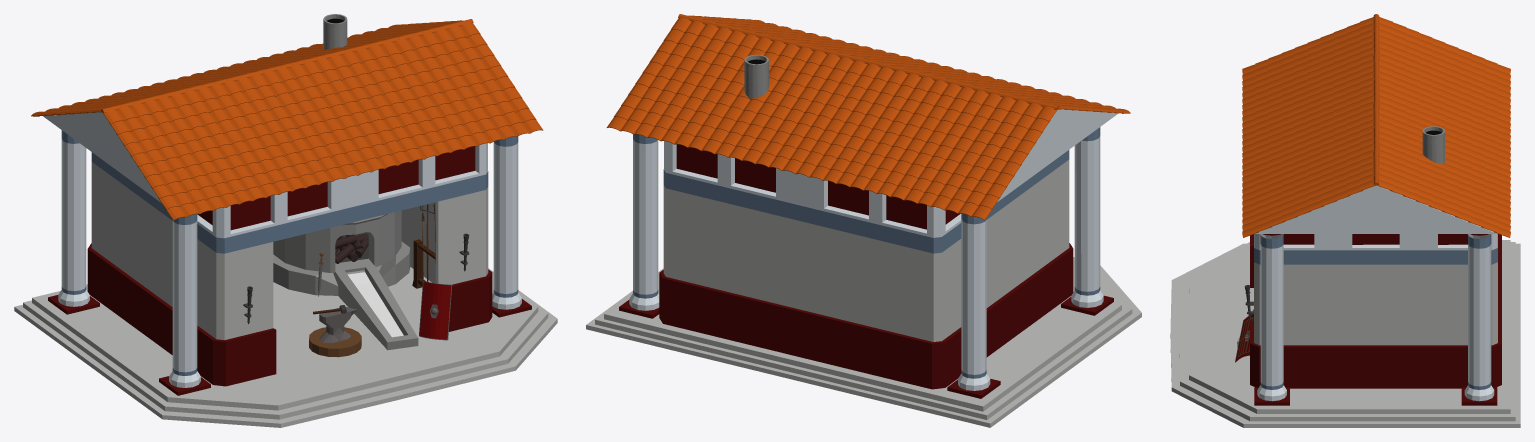
The model's file is Schmiede.fbx.
3 views of the same model, side by side, from view 1: azimuth 30°, elevation 25°; view 2: azimuth 150°, elevation 25°; view 3: azimuth 270°, elevation 25° (orthographic). The views are drawn at different scales.
Parts seen in each view (by area): view 1: Roof, Walls, Foundation, Pillars, Lower Roof, Oven, Amboss, Scutum, MakeThisOneLavaPls, Speer Ständer Ver 2.1; view 2: Walls, Roof, Foundation, Pillars, Lower Roof, Oven; view 3: Roof, Walls, Foundation, Lower Roof, Pillars, Oven, Scutum.
Boxes of the visible parts, box(x1,y1,x2,y2) form: Roof: box(31, 19, 543, 220); Walls: box(87, 152, 492, 386); Foundation: box(14, 267, 557, 427); Pillars: box(48, 130, 531, 395); Lower Roof: box(43, 112, 487, 238); Oven: box(273, 14, 418, 350); Amboss: box(309, 307, 361, 357); Scutum: box(419, 281, 452, 340); MakeThisOneLavaPls: box(348, 272, 403, 337); Speer Ständer Ver 2.1: box(412, 202, 435, 288); Walls: box(659, 150, 1073, 389); Roof: box(606, 14, 1130, 220); Foundation: box(586, 257, 1141, 427); Pillars: box(619, 127, 1113, 398); Lower Roof: box(664, 109, 1118, 237); Oven: box(744, 54, 768, 99); Roof: box(1242, 14, 1510, 237); Walls: box(1250, 234, 1501, 388); Foundation: box(1170, 240, 1520, 427); Lower Roof: box(1254, 185, 1497, 250); Pillars: box(1254, 234, 1497, 405); Oven: box(1237, 126, 1444, 347); Scutum: box(1235, 314, 1253, 362).
Size of the model in its own units: 1198 by 750 by 982.
